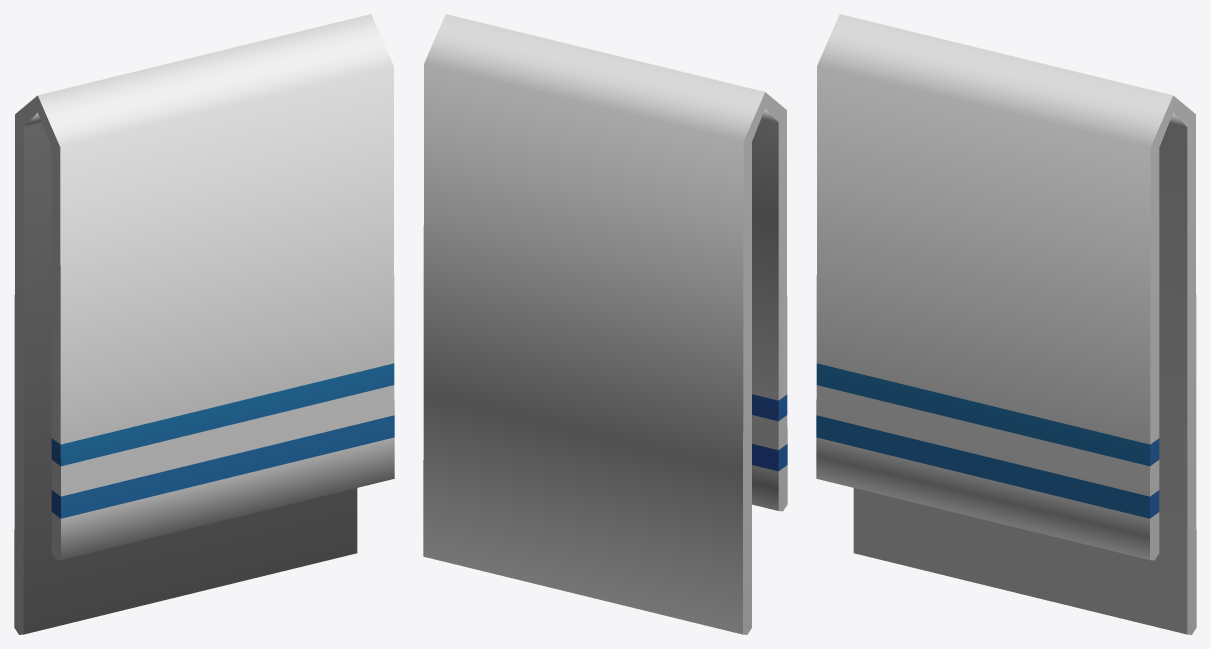
Rendered from CR_Towel_001.FBX.
3 views of the same model, side by side, from view 1: azimuth 30°, elevation 25°; view 2: azimuth 150°, elevation 25°; view 3: azimuth 330°, elevation 25° (orthographic). The views are drawn at different scales.
Visible parts, largest first — view 1: CR_Towel_001; view 2: CR_Towel_001; view 3: CR_Towel_001.
Boxes of the visible parts, x1,y1,x2,y2 form: CR_Towel_001: [14, 14, 394, 634]; CR_Towel_001: [423, 14, 787, 634]; CR_Towel_001: [816, 14, 1196, 634].
Size of the model in its own units: 16.31 by 25.84 by 3.96.
Materials: 1 (1 with a texture image).
